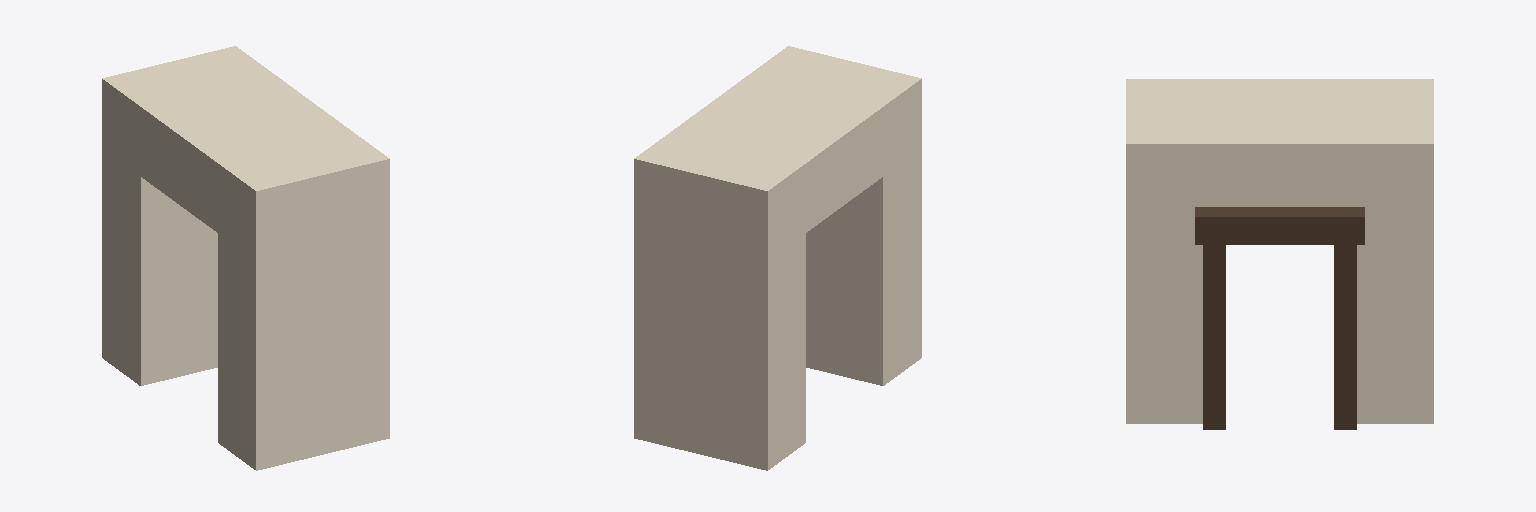
The model's file is Stucco_Doorway_Wide_Tall.obj.
The picture shows the model from 3 angles: view 1: azimuth 30°, elevation 25°; view 2: azimuth 150°, elevation 25°; view 3: azimuth 270°, elevation 25°; orthographic projection.
Parts seen in each view (by area): view 1: object1; view 2: object1; view 3: object1, object2.
Boxes of the visible parts, box(x1,y1,x2,y2) form: object1: box(102, 46, 389, 470); object1: box(634, 46, 921, 470); object1: box(1126, 79, 1433, 423); object2: box(1195, 207, 1364, 429).
Bounding box in the file's own units: 1.15 × 2 × 2.